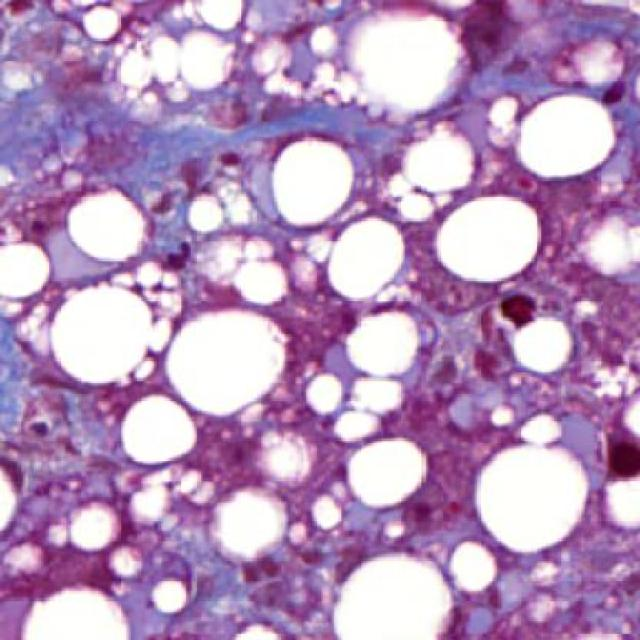steatosis: (474, 443, 594, 557), (48, 288, 162, 388), (432, 200, 547, 285), (269, 132, 354, 227), (340, 438, 428, 510)
